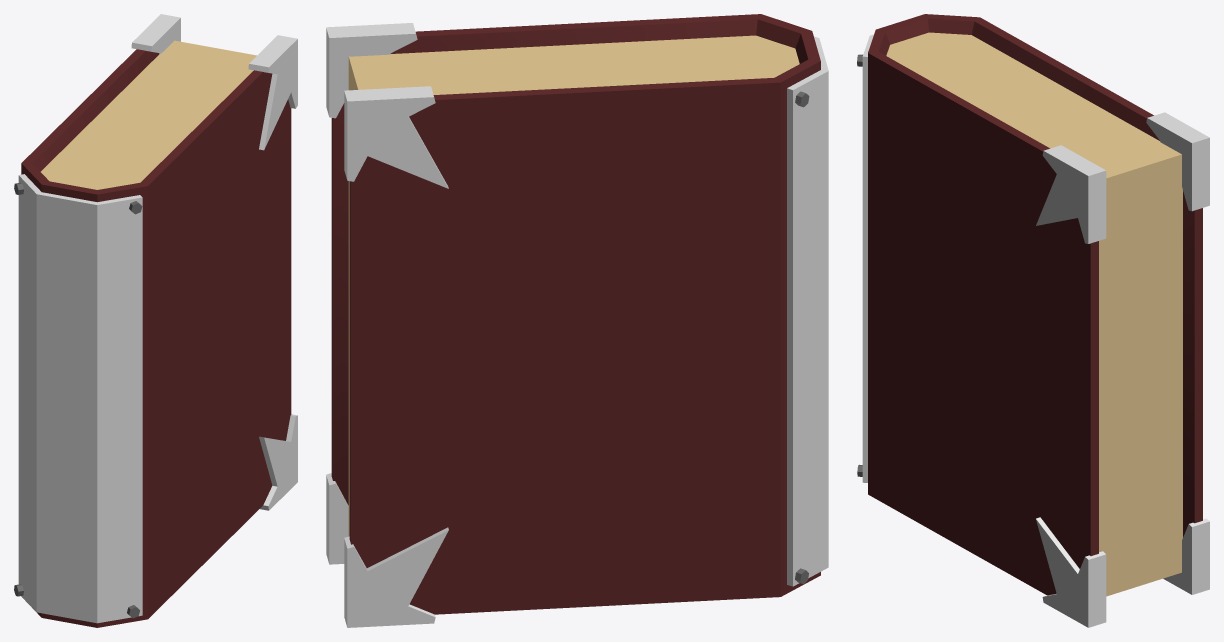
File: obj_Book_10.fbx
3 views of the same model, side by side, from view 1: azimuth 30°, elevation 25°; view 2: azimuth 150°, elevation 25°; view 3: azimuth 270°, elevation 25° (orthographic). The views are drawn at different scales.
Visible parts, largest first — view 1: Book_10, Book_EdgePattern.029; view 2: Book_10, Book_EdgePattern.029; view 3: Book_10, Book_EdgePattern.029.
Part boxes in pixels (x1=…): Book_10: x1=14, y1=40, x2=291, y2=627; Book_EdgePattern.029: x1=131, y1=14, x2=297, y2=510; Book_10: x1=331, y1=14, x2=828, y2=614; Book_EdgePattern.029: x1=326, y1=23, x2=448, y2=627; Book_10: x1=857, y1=14, x2=1202, y2=596; Book_EdgePattern.029: x1=1036, y1=112, x2=1209, y2=627.
Size of the model in its own units: 0.2308 by 0.2849 by 0.2017.
